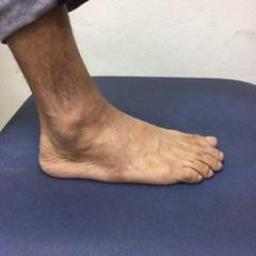Lateral View -Right Foot-: (24, 83, 227, 195)
